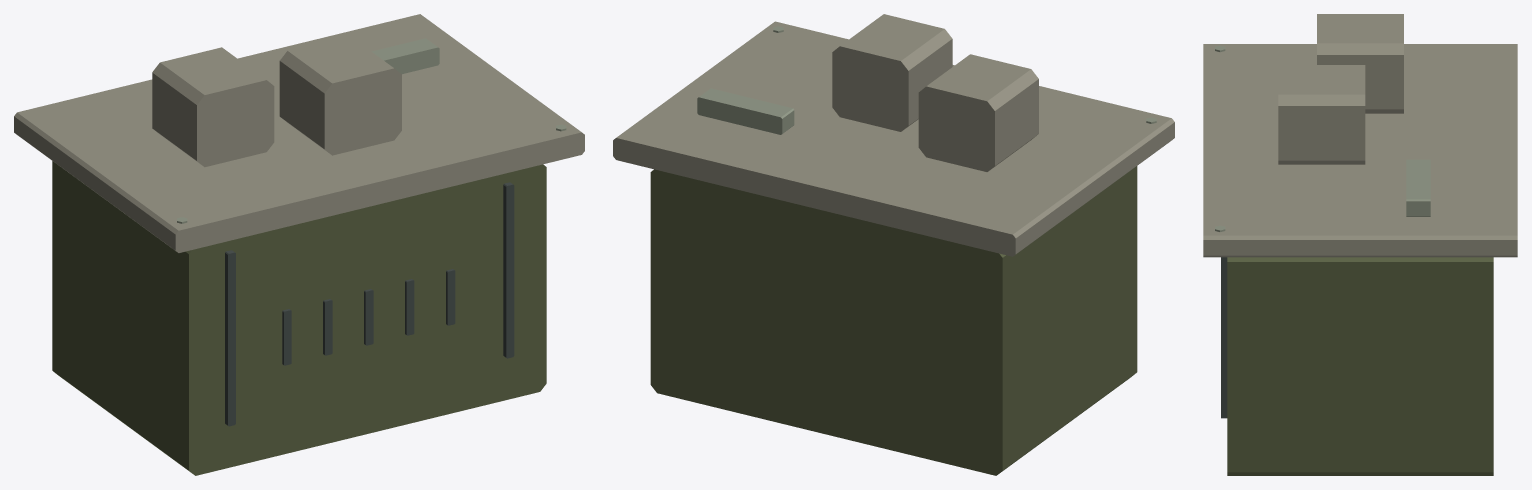
File: Stonecutter.gltf
3 views of the same model, side by side, from view 1: azimuth 30°, elevation 25°; view 2: azimuth 150°, elevation 25°; view 3: azimuth 270°, elevation 25° (orthographic). The views are drawn at different scales.
Parts seen in each view (by area): view 1: Stonecutter; view 2: Stonecutter; view 3: Stonecutter.
Part boxes in pixels (<box>): Stonecutter: <box>14,14,584,475</box>; Stonecutter: <box>613,14,1174,475</box>; Stonecutter: <box>1203,14,1517,475</box>.
Size of the model in its own units: 0.95 by 0.74 by 0.65.
